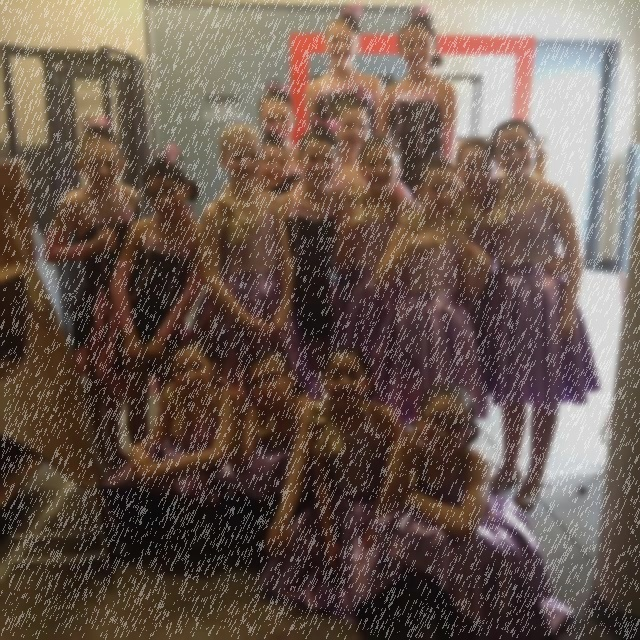pessoa: (368, 378, 574, 639), (477, 117, 600, 510), (258, 344, 418, 626), (276, 115, 417, 404), (184, 123, 318, 407), (42, 114, 143, 470), (442, 135, 568, 401), (101, 336, 247, 562), (372, 156, 490, 432), (100, 142, 203, 448), (212, 346, 318, 565), (332, 132, 424, 369), (373, 6, 458, 202), (302, 3, 386, 152), (255, 77, 304, 196), (222, 128, 288, 200), (326, 96, 372, 186)
